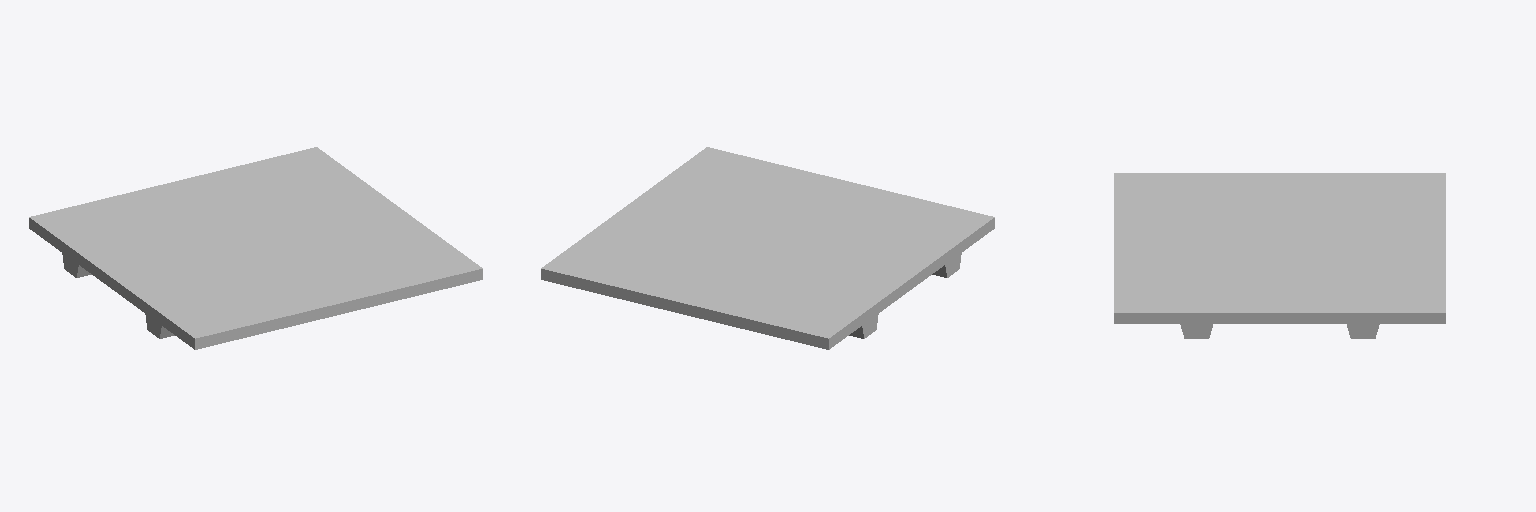
The model's file is ceiling_tile.obj.
The picture shows the model from 3 angles: view 1: azimuth 30°, elevation 25°; view 2: azimuth 150°, elevation 25°; view 3: azimuth 270°, elevation 25°; orthographic projection.
Visible parts, largest first — view 1: ceiling_tile; view 2: ceiling_tile; view 3: ceiling_tile.
Boxes of the visible parts, box(x1,y1,x2,y2) form: ceiling_tile: box(29, 147, 482, 349); ceiling_tile: box(541, 147, 994, 349); ceiling_tile: box(1114, 173, 1445, 338).
Bounding box in the file's own units: 4 × 0.35 × 4.